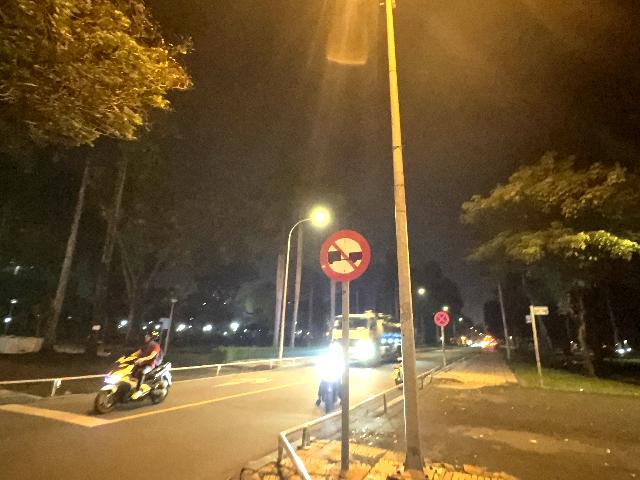cam-xe-somi-romooc: (320, 230, 371, 282)
